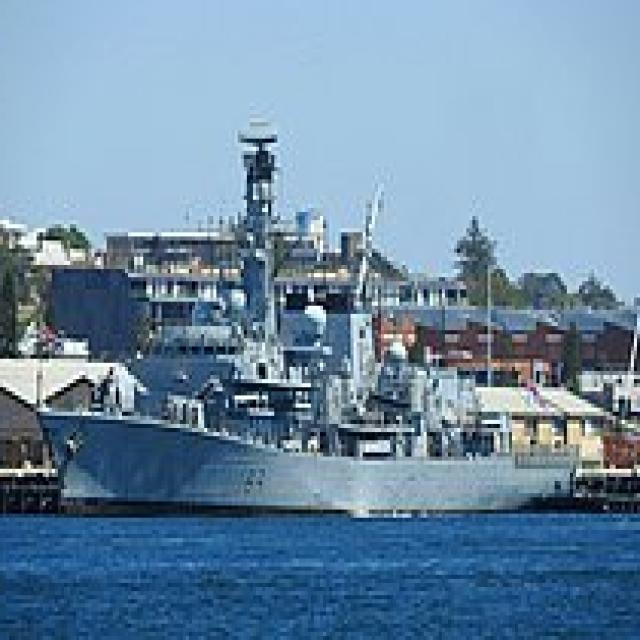Warship: (37, 110, 585, 518)
